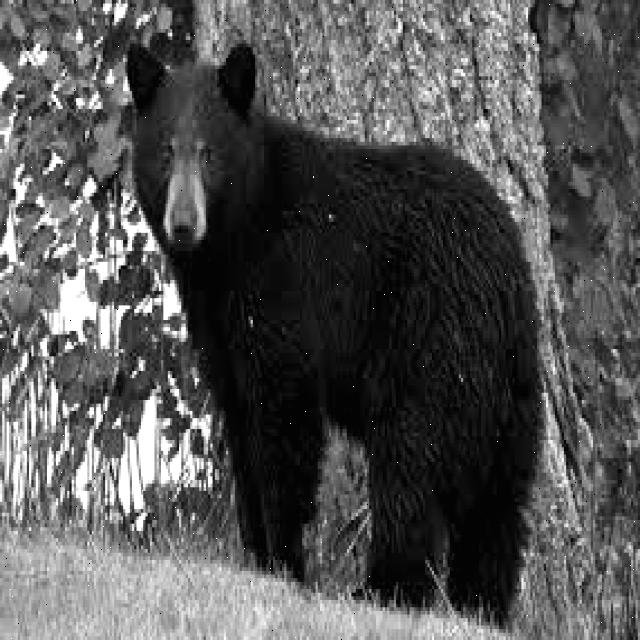bear: (123, 37, 496, 580)
